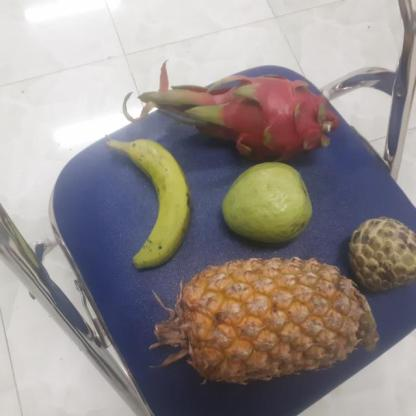annona: (344, 218, 416, 294)
banana: (111, 138, 190, 264)
guava: (218, 164, 312, 243)
pineapple: (154, 258, 372, 382)
pitaya: (196, 71, 332, 160)
